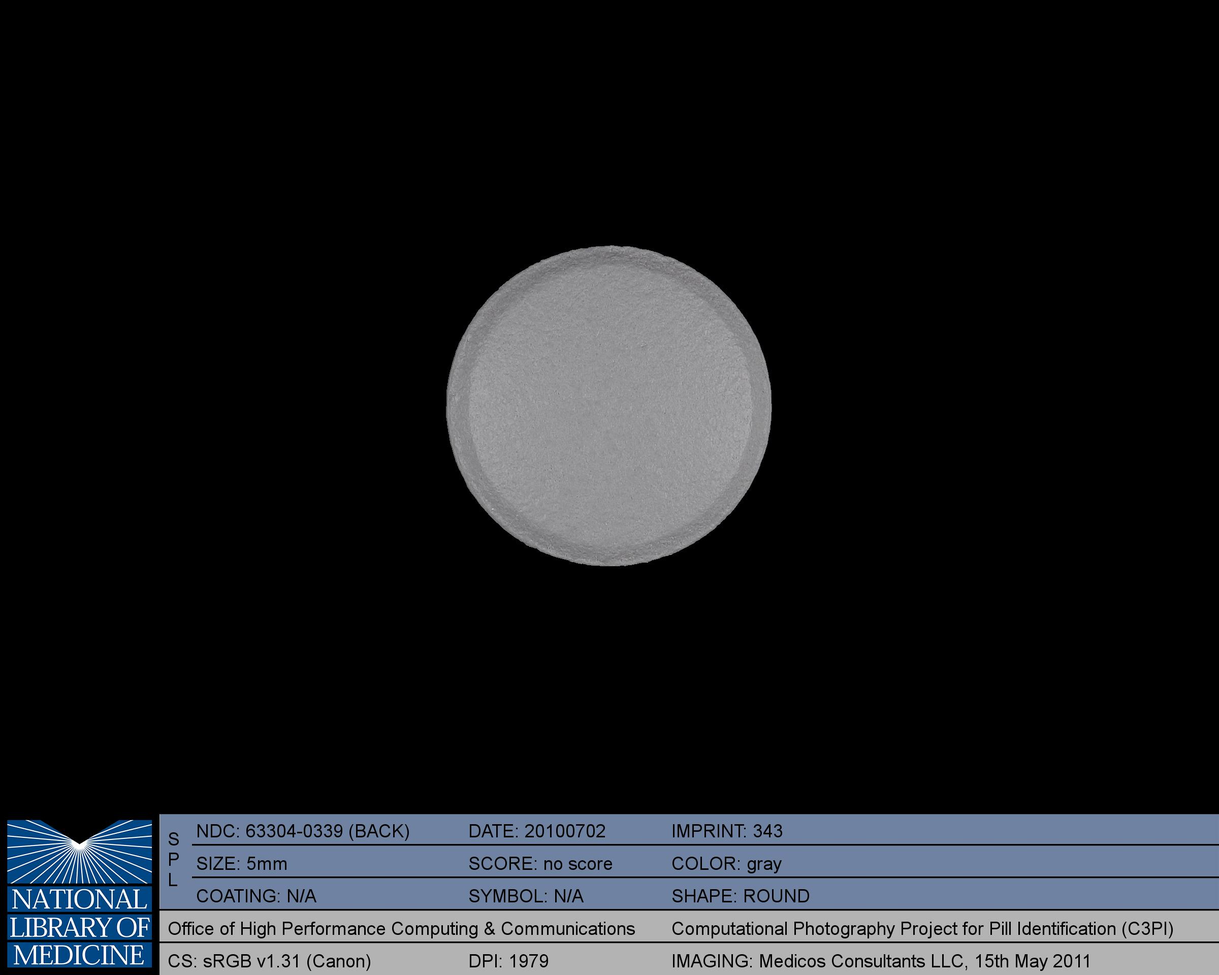Pill: (435, 234, 784, 577)
